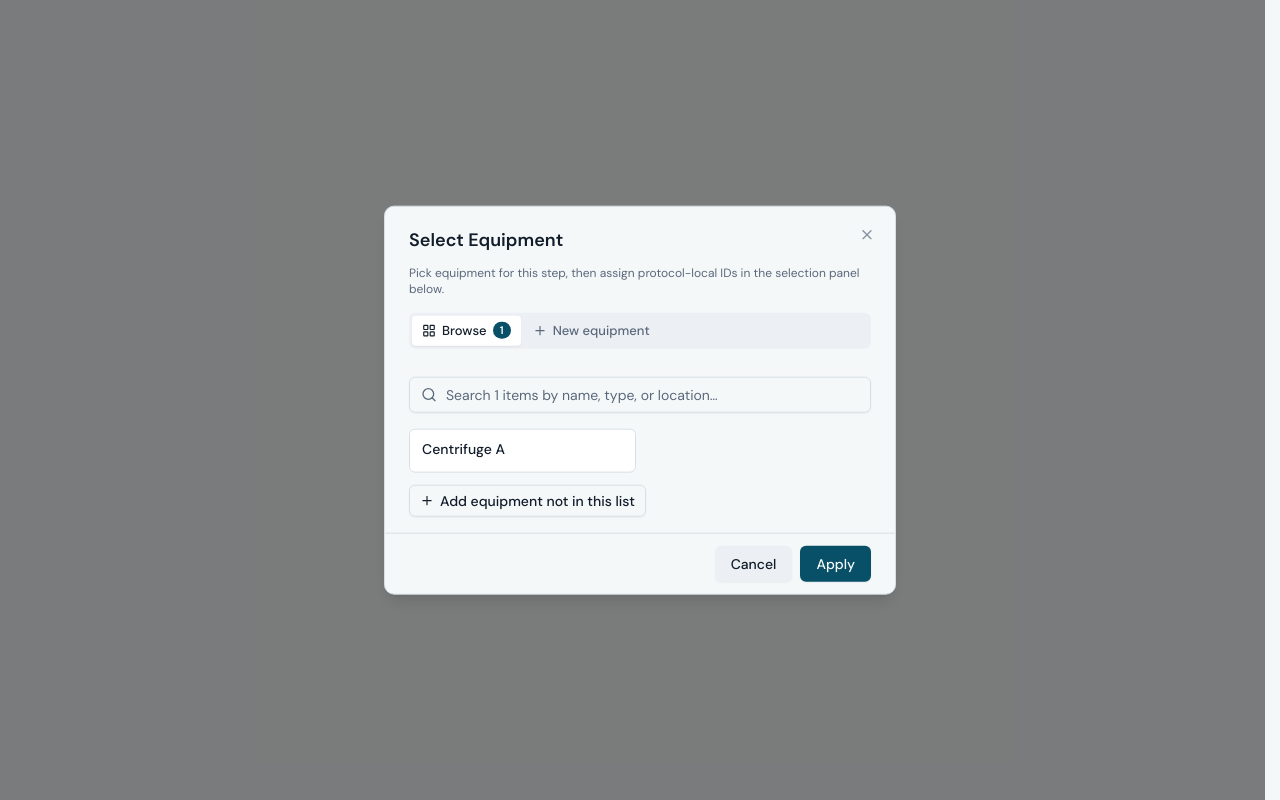
Test: EquipmentPickerModal selection dock › hides the dock until something is selected
Click the button with class "equipment-item". click: [522, 450]
box: [409,428,636,472]
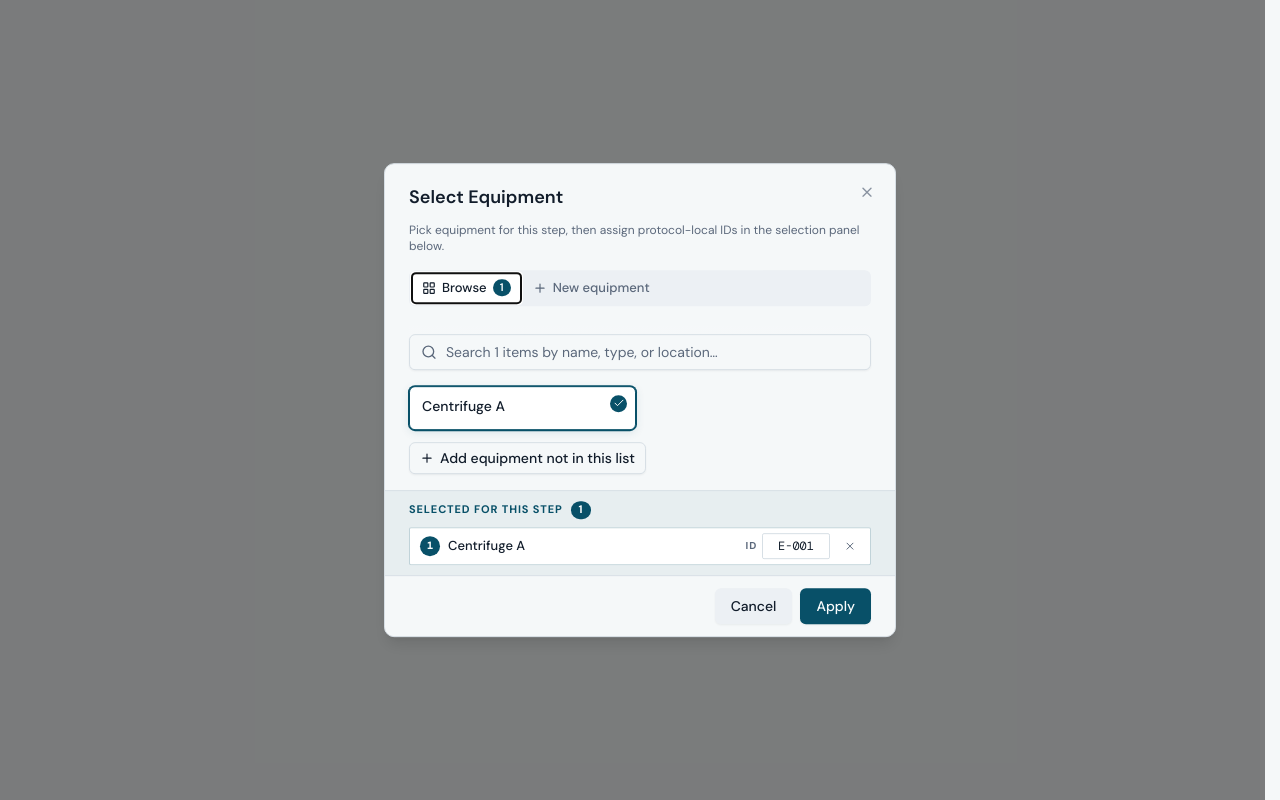
Expected: the element with class "dock" is shown, [385,490,895,575]
